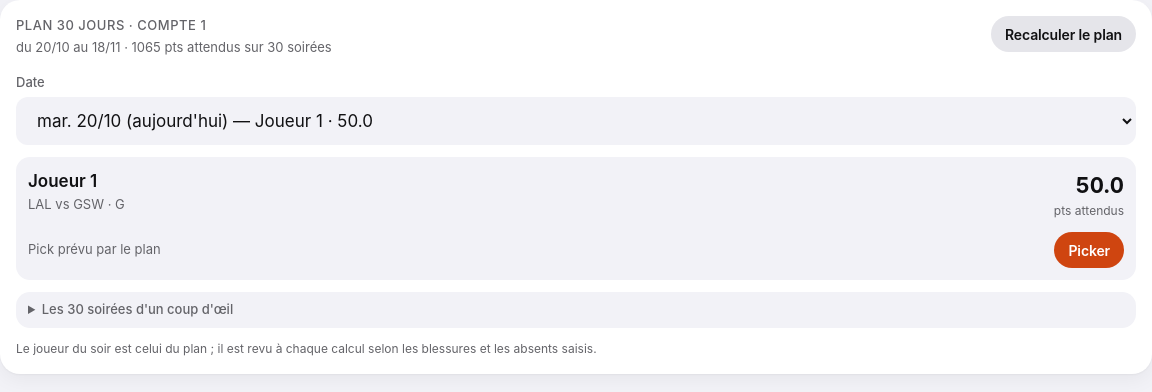
it: Plan 30 jours › changer de date change le joueur affiché
The width and height of the screenshot is (1152, 392).
expect the text "Joueur 1" is shown: met, box x1=28 y1=171 x2=97 y2=191
Select "dim. 25/10 — Joueur 6 · 45.0" in the dropdown named "Date du plan" at (576, 121), box x1=16 y1=97 x2=1136 y2=145
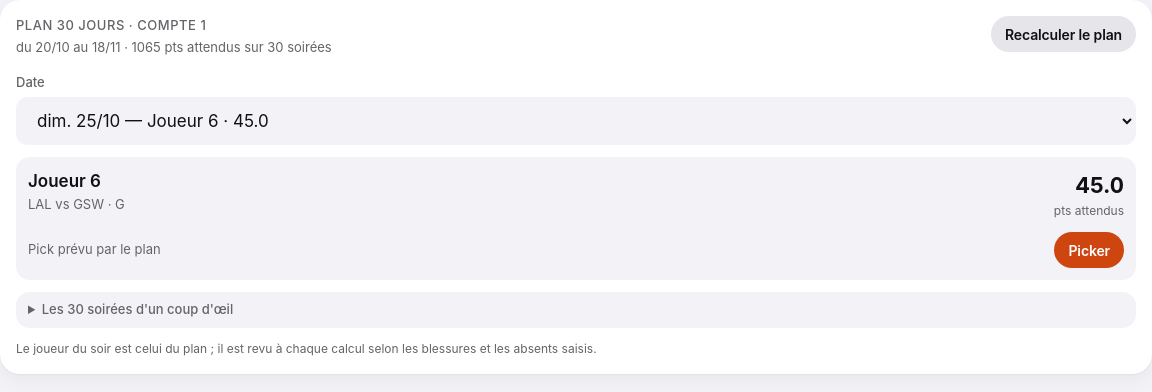
expect the text "Joueur 6" is shown: met, box x1=28 y1=171 x2=101 y2=191
expect the text "Joueur 1" is gone: met
